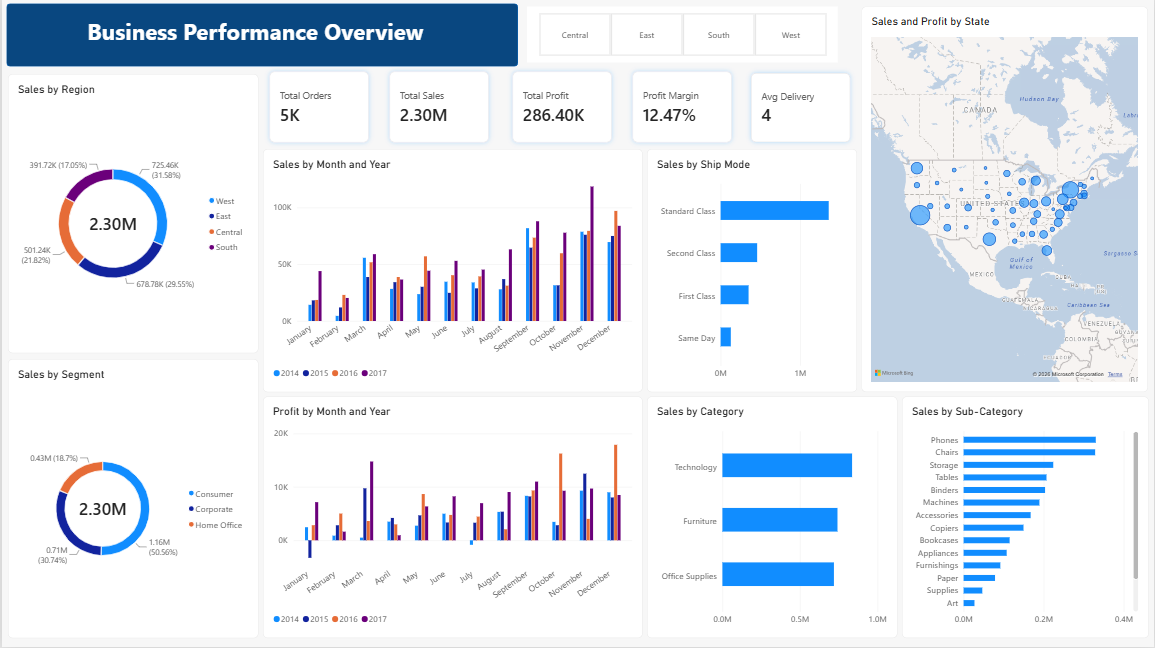

The page's visual inventory and layout, read from the dashboard file:
{"tool":"powerbi","page":{"name":"Business Performance Overview","canvas":[1920,1080],"ordinal":0},"visuals":[{"type":"cardVisual","fields":{"Data":["superstore_sales.Profit Margin"]},"box":[1040,110,187.5,140],"z":0},{"type":"shape","box":[7.5,7.5,852.5,105],"z":1000},{"type":"textbox","box":[142.5,27.5,585,57.5],"z":2000},{"type":"donutChart","fields":{"Category":["superstore_sales.Region"],"Y":["Sum(superstore_sales.Sales)"]},"box":[1455,70,400,470],"z":3000},{"type":"barChart","fields":{"Category":["superstore_sales.Category"],"Y":["Sum(superstore_sales.Sales)"]},"box":[1075,662.5,417.5,402.5],"z":4000},{"type":"barChart","fields":{"Category":["superstore_sales.Sub-Category"],"Y":["Sum(superstore_sales.Sales)"]},"box":[1500,662.5,411,402.5],"z":5000},{"type":"barChart","fields":{"Category":["superstore_sales.Ship Mode"],"Y":["Sum(superstore_sales.Sales)"]},"box":[1075,250,350,405],"z":6000},{"type":"clusteredColumnChart","fields":{"Category":["superstore_sales.Order Date.Variation.Date Hierarchy.Month"],"Series":["superstore_sales.Order Date.Variation.Date Hierarchy.Year"],"Y":["Sum(superstore_sales.Sales)"]},"box":[435,250,632.5,405],"z":7000},{"type":"clusteredColumnChart","fields":{"Category":["superstore_sales.Order Date.Variation.Date Hierarchy.Month"],"Series":["superstore_sales.Order Date.Variation.Date Hierarchy.Year"],"Y":["Sum(superstore_sales.Profit)"]},"box":[435,662.5,632.5,402.5],"z":8000},{"type":"map","fields":{"Category":["superstore_sales.State"],"Size":["Sum(superstore_sales.Sales)"]},"box":[1432.5,12.5,477.5,642.5],"z":9000},{"type":"donutChart","fields":{"Category":["superstore_sales.Segment"],"Y":["Sum(superstore_sales.Sales)"]},"box":[10,600,417.5,465],"z":10000},{"type":"slicer","fields":{"Values":["superstore_sales.Region"]},"box":[874,11.9,517.7,93.1],"z":11000},{"type":"cardVisual","title":"Ship Days","fields":{"Data":["Avg(superstore_sales.Avg Delivery)"]},"box":[1237.5,112.5,187.5,137.5],"z":12000},{"type":"cardVisual","title":"Ship Days","fields":{"Data":["superstore_sales.Total Sales"]},"box":[635,110,187,140],"z":13000},{"type":"cardVisual","title":"Ship Days","fields":{"Data":["superstore_sales.Total Profit"]},"box":[840,110,187,140],"z":14000},{"type":"cardVisual","title":"Ship Days","fields":{"Data":["superstore_sales.Total Orders"]},"box":[435,110,187.5,140],"z":15000},{"type":"donutChart","fields":{"Category":["superstore_sales.Region"],"Y":["Sum(superstore_sales.Sales)"]},"box":[10,125,417.5,465],"z":16000}]}

Visuals, with their boxes in screenshot pixels (x1, y1, x2, y2), scaled from the page's 1920x1080 canvas onto the 1155x648 screenshot:
cardVisual - superstore_sales.Profit Margin: crop(626, 66, 738, 150)
shape: crop(5, 4, 517, 68)
textbox: crop(86, 16, 438, 51)
donutChart - superstore_sales.Region x Sum(superstore_sales.Sales): crop(875, 42, 1116, 324)
barChart - superstore_sales.Category x Sum(superstore_sales.Sales): crop(647, 398, 898, 639)
barChart - superstore_sales.Sub-Category x Sum(superstore_sales.Sales): crop(902, 398, 1150, 639)
barChart - superstore_sales.Ship Mode x Sum(superstore_sales.Sales): crop(647, 150, 857, 393)
clusteredColumnChart - superstore_sales.Order Date.Variation.Date Hierarchy.Month x superstore_sales.Order Date.Variation.Date Hierarchy.Year: crop(262, 150, 642, 393)
clusteredColumnChart - superstore_sales.Order Date.Variation.Date Hierarchy.Month x superstore_sales.Order Date.Variation.Date Hierarchy.Year: crop(262, 398, 642, 639)
map - superstore_sales.State x Sum(superstore_sales.Sales): crop(862, 8, 1149, 393)
donutChart - superstore_sales.Segment x Sum(superstore_sales.Sales): crop(6, 360, 257, 639)
slicer - superstore_sales.Region: crop(526, 7, 837, 63)
"Ship Days" cardVisual: crop(744, 68, 857, 150)
"Ship Days" cardVisual: crop(382, 66, 494, 150)
"Ship Days" cardVisual: crop(505, 66, 618, 150)
"Ship Days" cardVisual: crop(262, 66, 374, 150)
donutChart - superstore_sales.Region x Sum(superstore_sales.Sales): crop(6, 75, 257, 354)
